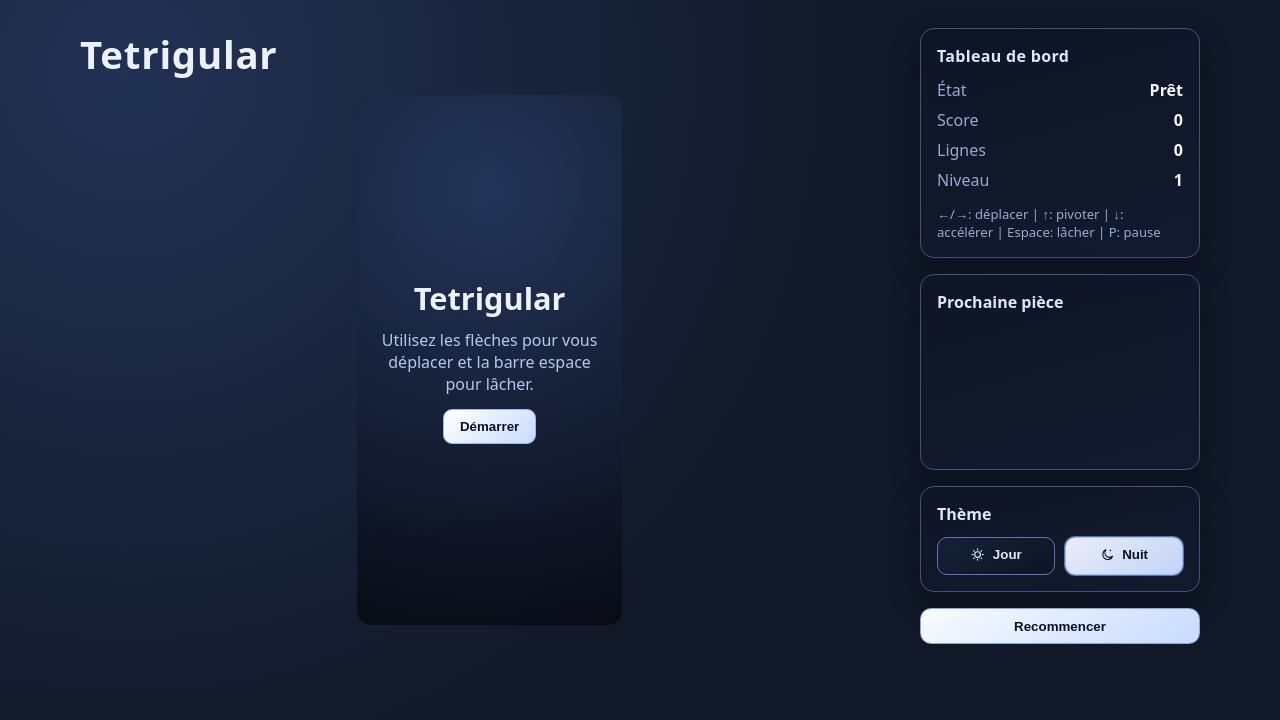
GameComponent › démarre une partie depuis l’overlay et met à jour le template
Click the button "Démarrer" at (490, 427), box left=443, top=409, right=536, bottom=444
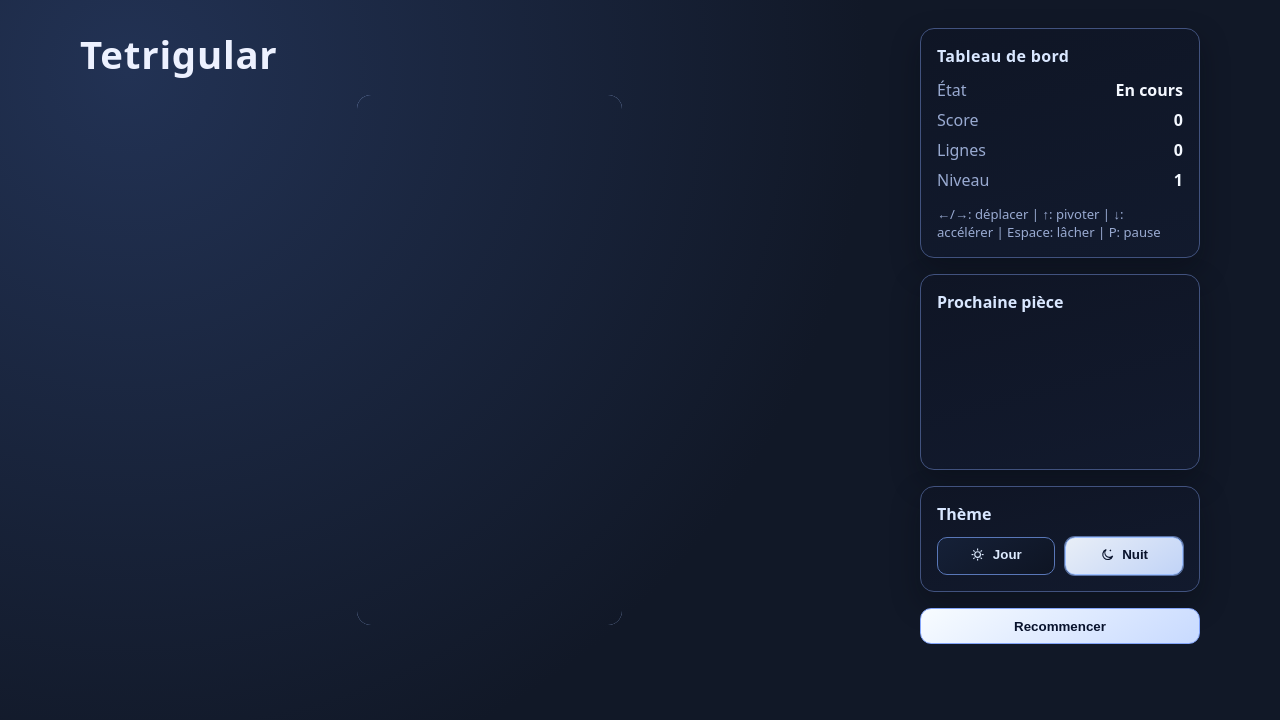
Check: the element with class "overlay" is gone
Check: the element with class "hud" shows "En cours", box left=1116, top=79, right=1183, bottom=101
